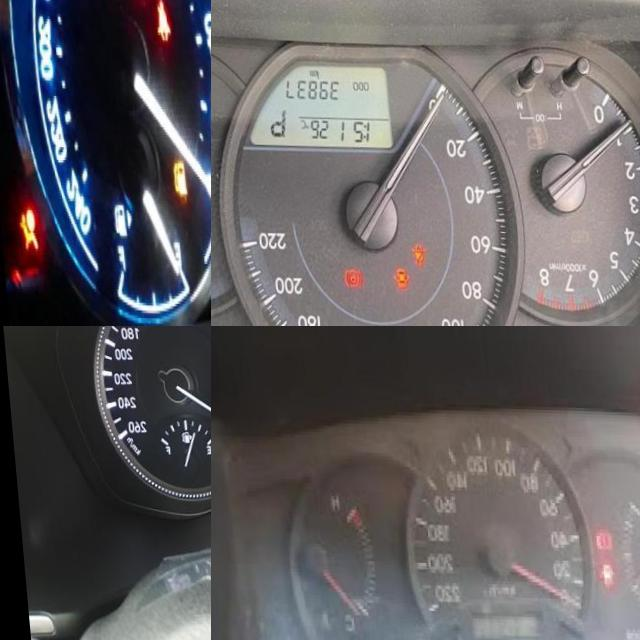Seat Belt: (149, 0, 165, 38), (405, 240, 420, 265)
